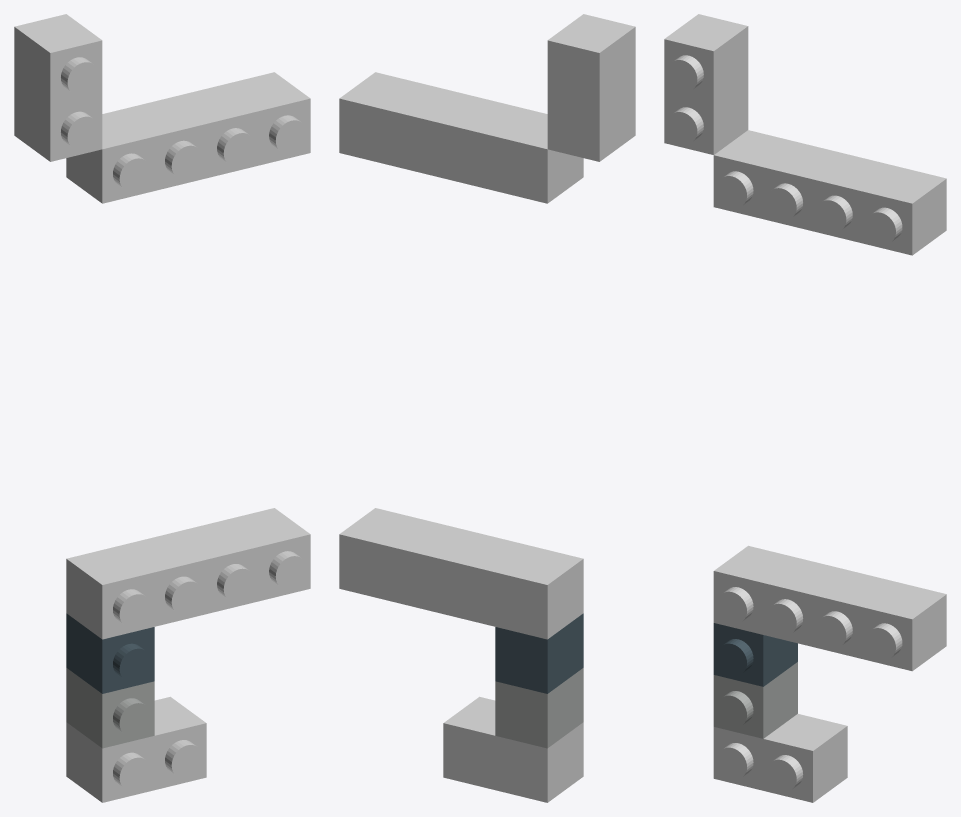
Rendered from current.glb.
The picture shows the model from 3 angles, left to right: view 1: azimuth 30°, elevation 25°; view 2: azimuth 150°, elevation 25°; view 3: azimuth 330°, elevation 25°; orthographic projection. The views are drawn at different scales.
Parts seen in each view (by area): view 1: world; view 2: world; view 3: world.
Boxes of the visible parts, bbox=[...] form: world: bbox=[14, 14, 310, 802]; world: bbox=[339, 14, 635, 802]; world: bbox=[664, 14, 946, 802].
Bounding box in the file's own units: 40 × 112 × 11.4.
